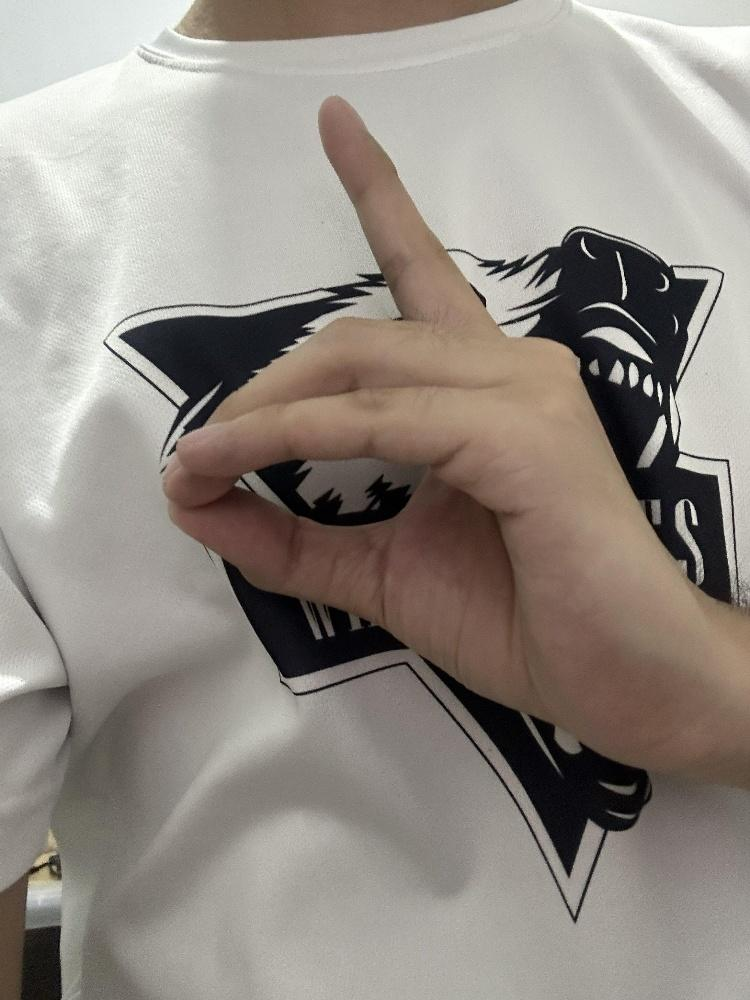d: (156, 89, 700, 770)
